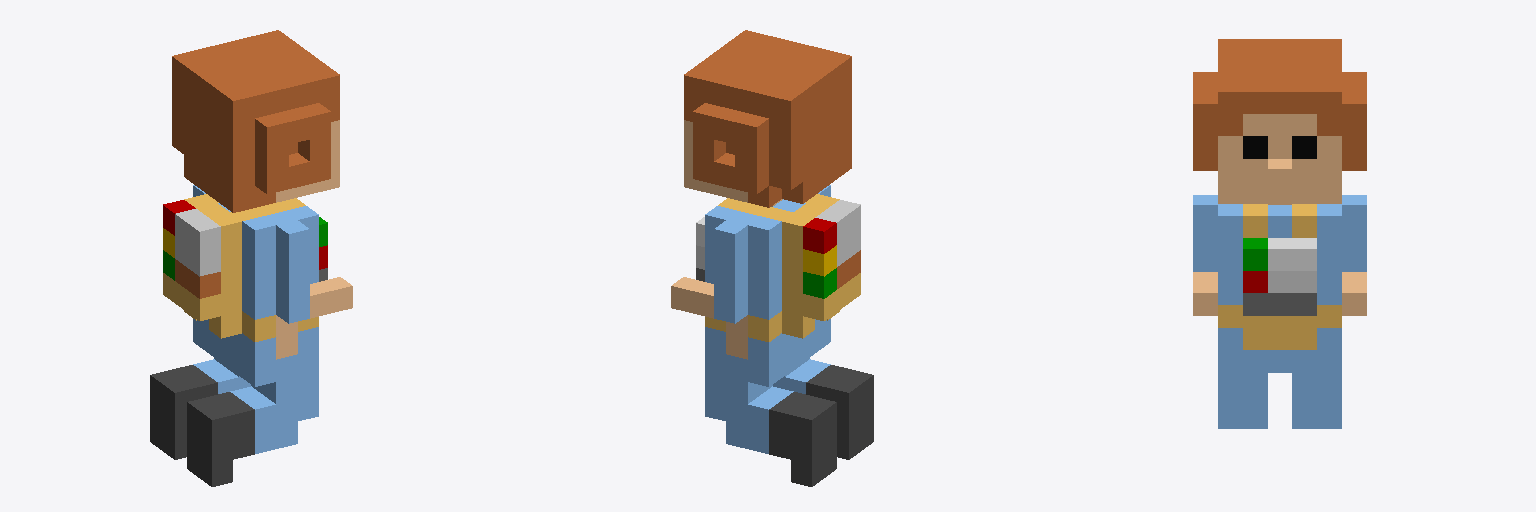
The picture shows the model from 3 angles: view 1: azimuth 30°, elevation 25°; view 2: azimuth 150°, elevation 25°; view 3: azimuth 270°, elevation 25°; orthographic projection.
Parts seen in each view (by area): view 1: Female2.2; view 2: Female2.2; view 3: Female2.2.
Part boxes in pixels (bbox=[...]): Female2.2: bbox=[150, 30, 352, 486]; Female2.2: bbox=[671, 30, 873, 486]; Female2.2: bbox=[1193, 39, 1366, 428].
Size of the model in its own units: 7 by 17 by 7.
1 materials, 1 textured.